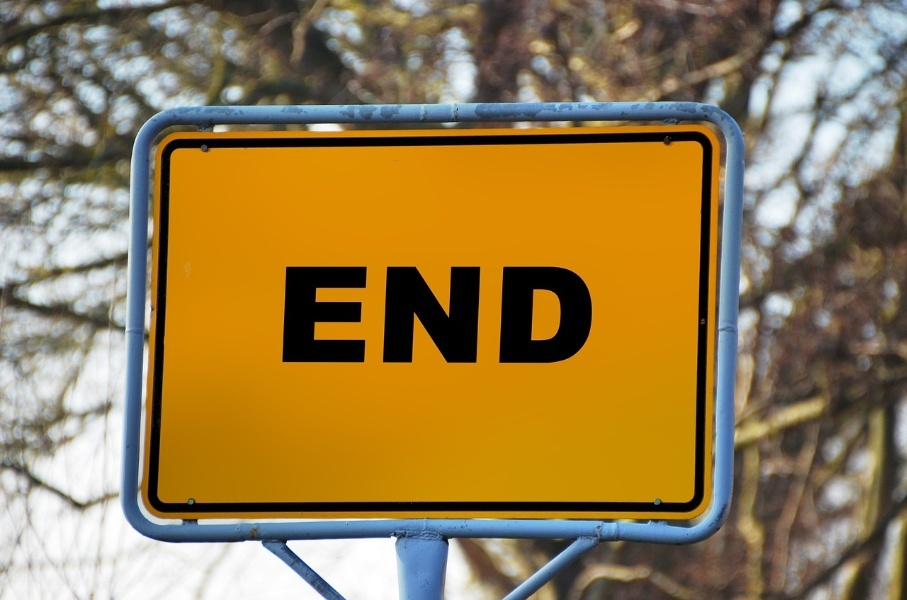text: (289, 265, 304, 364), (305, 265, 320, 364), (321, 265, 336, 364), (337, 265, 352, 364), (353, 265, 368, 364), (369, 265, 384, 364), (385, 265, 400, 364), (401, 265, 416, 364), (417, 265, 432, 364), (433, 265, 448, 364), (449, 265, 464, 364), (465, 265, 480, 364), (481, 265, 496, 364), (497, 265, 512, 364), (513, 265, 528, 364), (529, 265, 544, 364), (545, 265, 560, 364), (561, 265, 576, 364), (577, 265, 592, 364), (285, 265, 288, 364), (593, 265, 594, 364)
